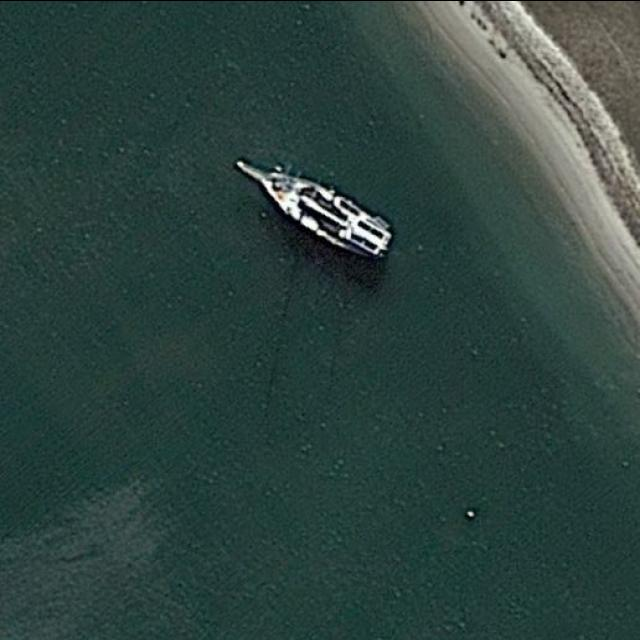ship: (230, 156, 390, 262)
